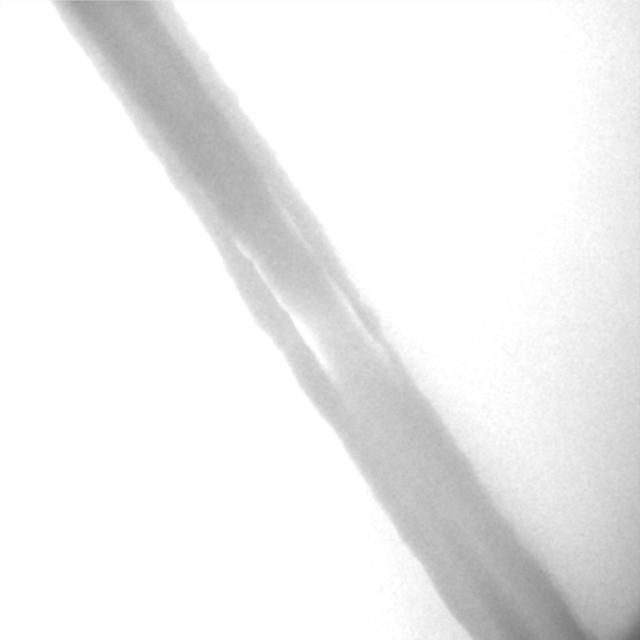unfused: (237, 210, 380, 386)
